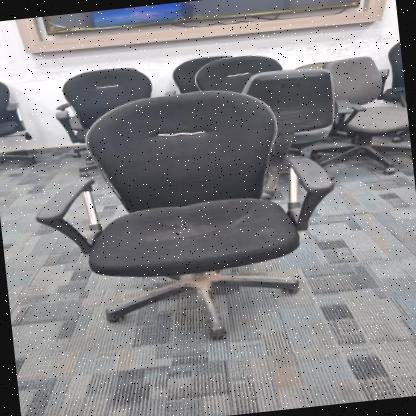chair: (13, 69, 350, 357)
